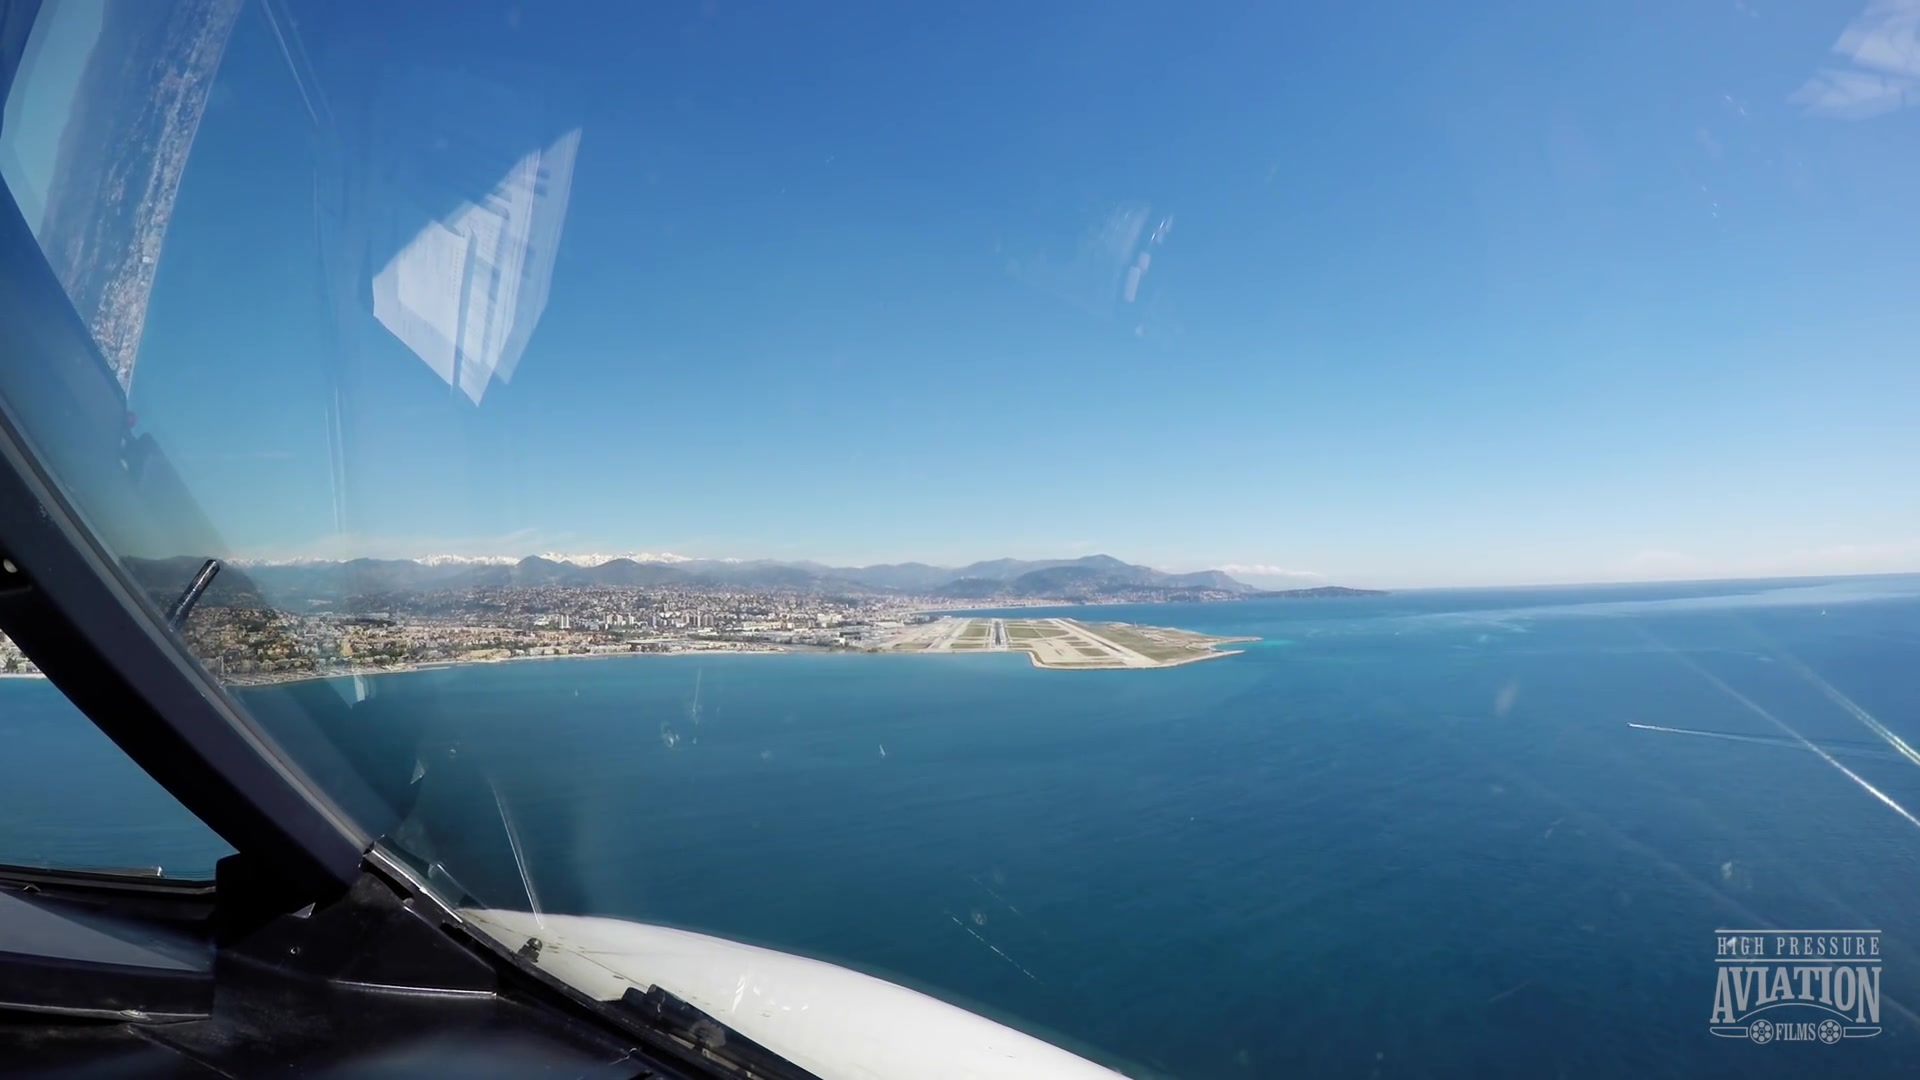runway: (1047, 618, 1160, 666), (986, 616, 1007, 651)
